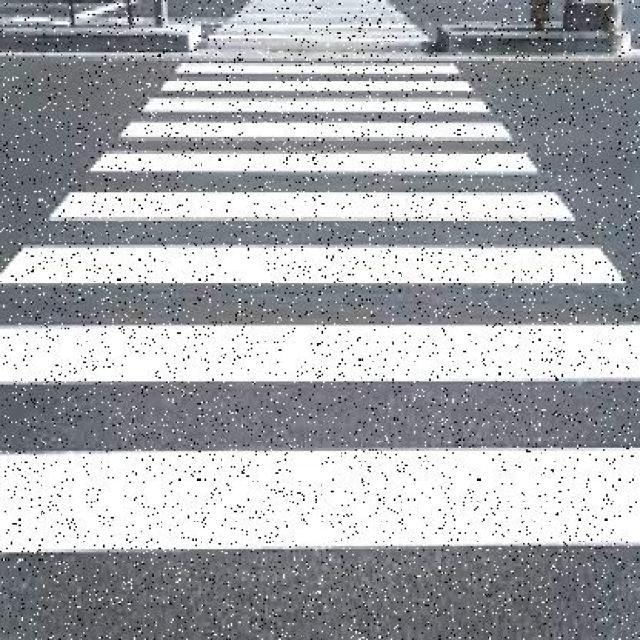crosswalk: (0, 58, 640, 640), (206, 0, 436, 40)
